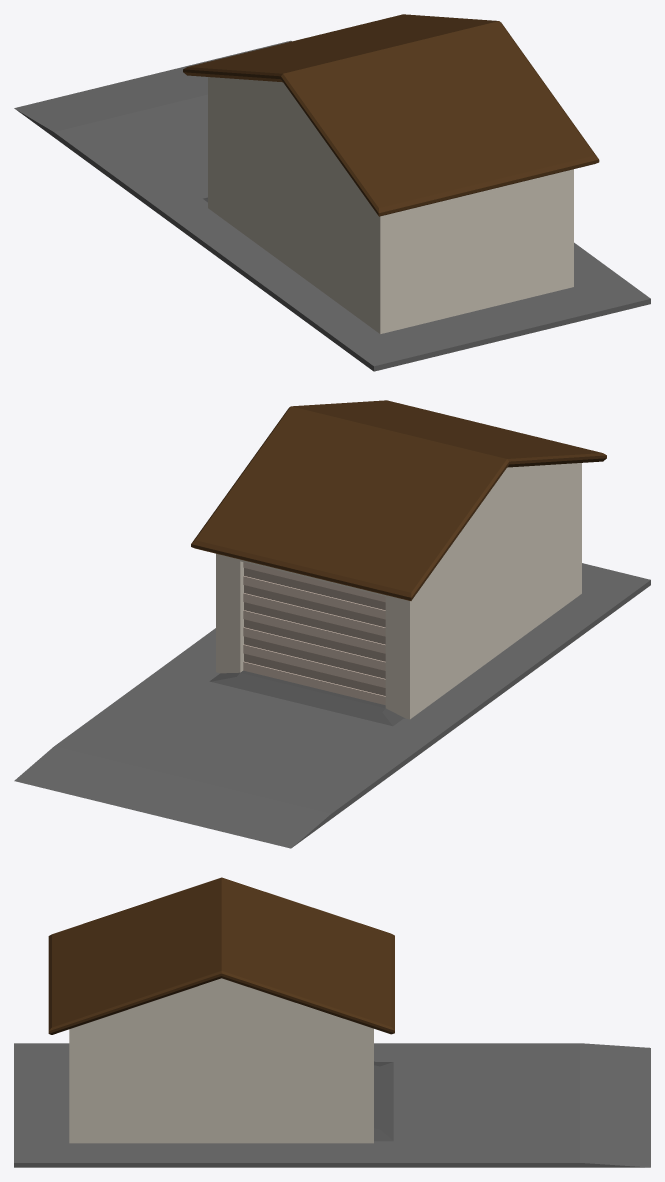
Rendered from garage_1.fbx.
3 renders of one model, top to bottom at view 1: azimuth 30°, elevation 25°; view 2: azimuth 150°, elevation 25°; view 3: azimuth 270°, elevation 25°, orthographic. The views are drawn at different scales.
Parts seen in each view (by area): view 1: garage_1; view 2: garage_1; view 3: garage_1.
Boxes of the visible parts, x1,y1,x2,y2 form: garage_1: (14,14,650,371); garage_1: (14,400,650,848); garage_1: (14,877,650,1167).
Bounding box in the file's own units: 8 × 18 × 5.67.
